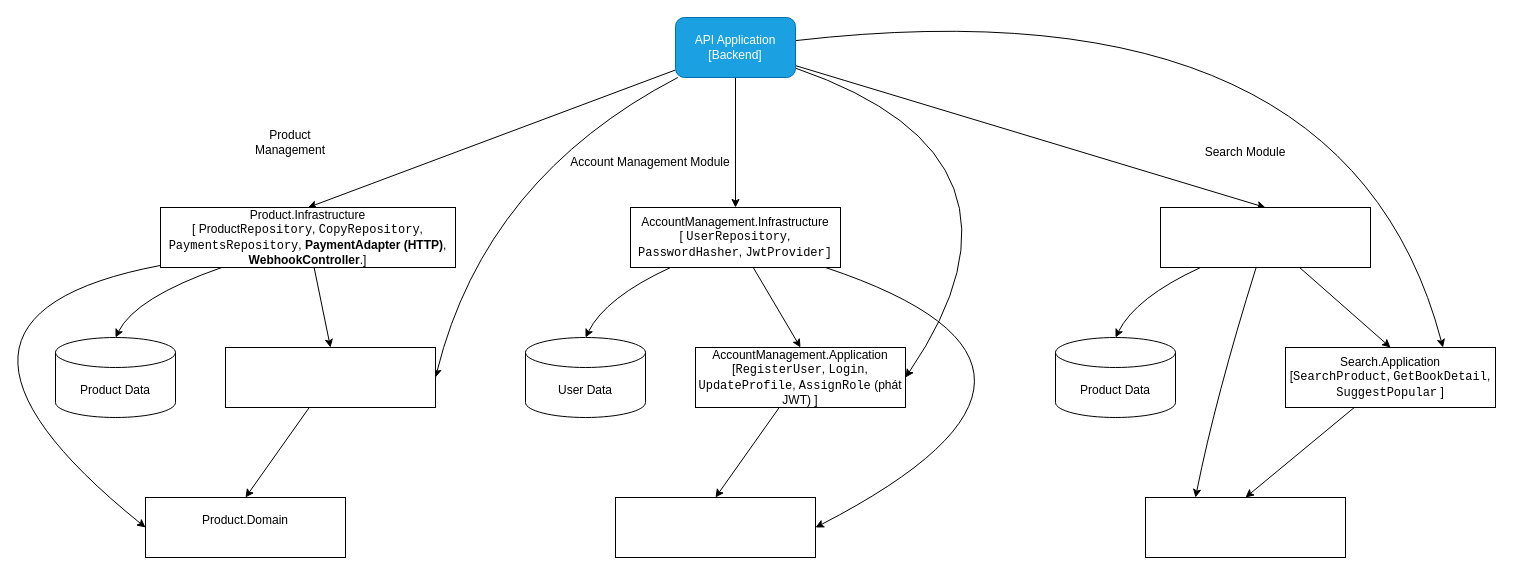
The diagram is 1513 pixels wide and 575 high, and some of its shapes have lost their labels. The centre of each missing label's shape, as x and y in pixels:
"AccountManagement.Domain [ User , Role , quy tắc email unique, mật khẩu]" goes at (715,527).
"Product.Application [ Create Product ]" goes at (330,377).
"Search.Domain [ Product (metadata), policy chuẩn hoá/gợi ý ]" goes at (1245,527).
"Search.Infrastructure [ ProductRepository (catalog), ProductCopiesReadRepo ]" goes at (1265,237).
